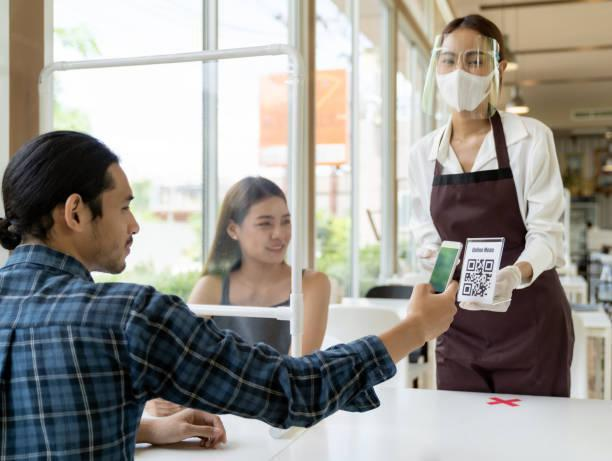qr_code: (462, 259, 495, 297)
